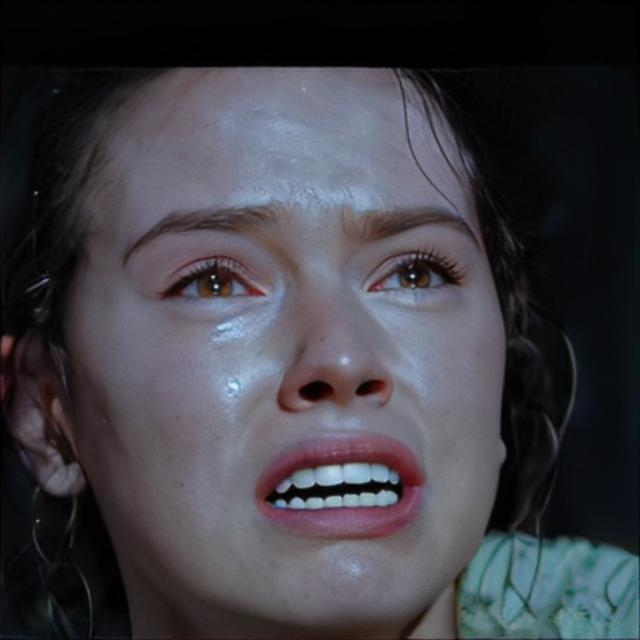fear: (73, 67, 510, 640)
